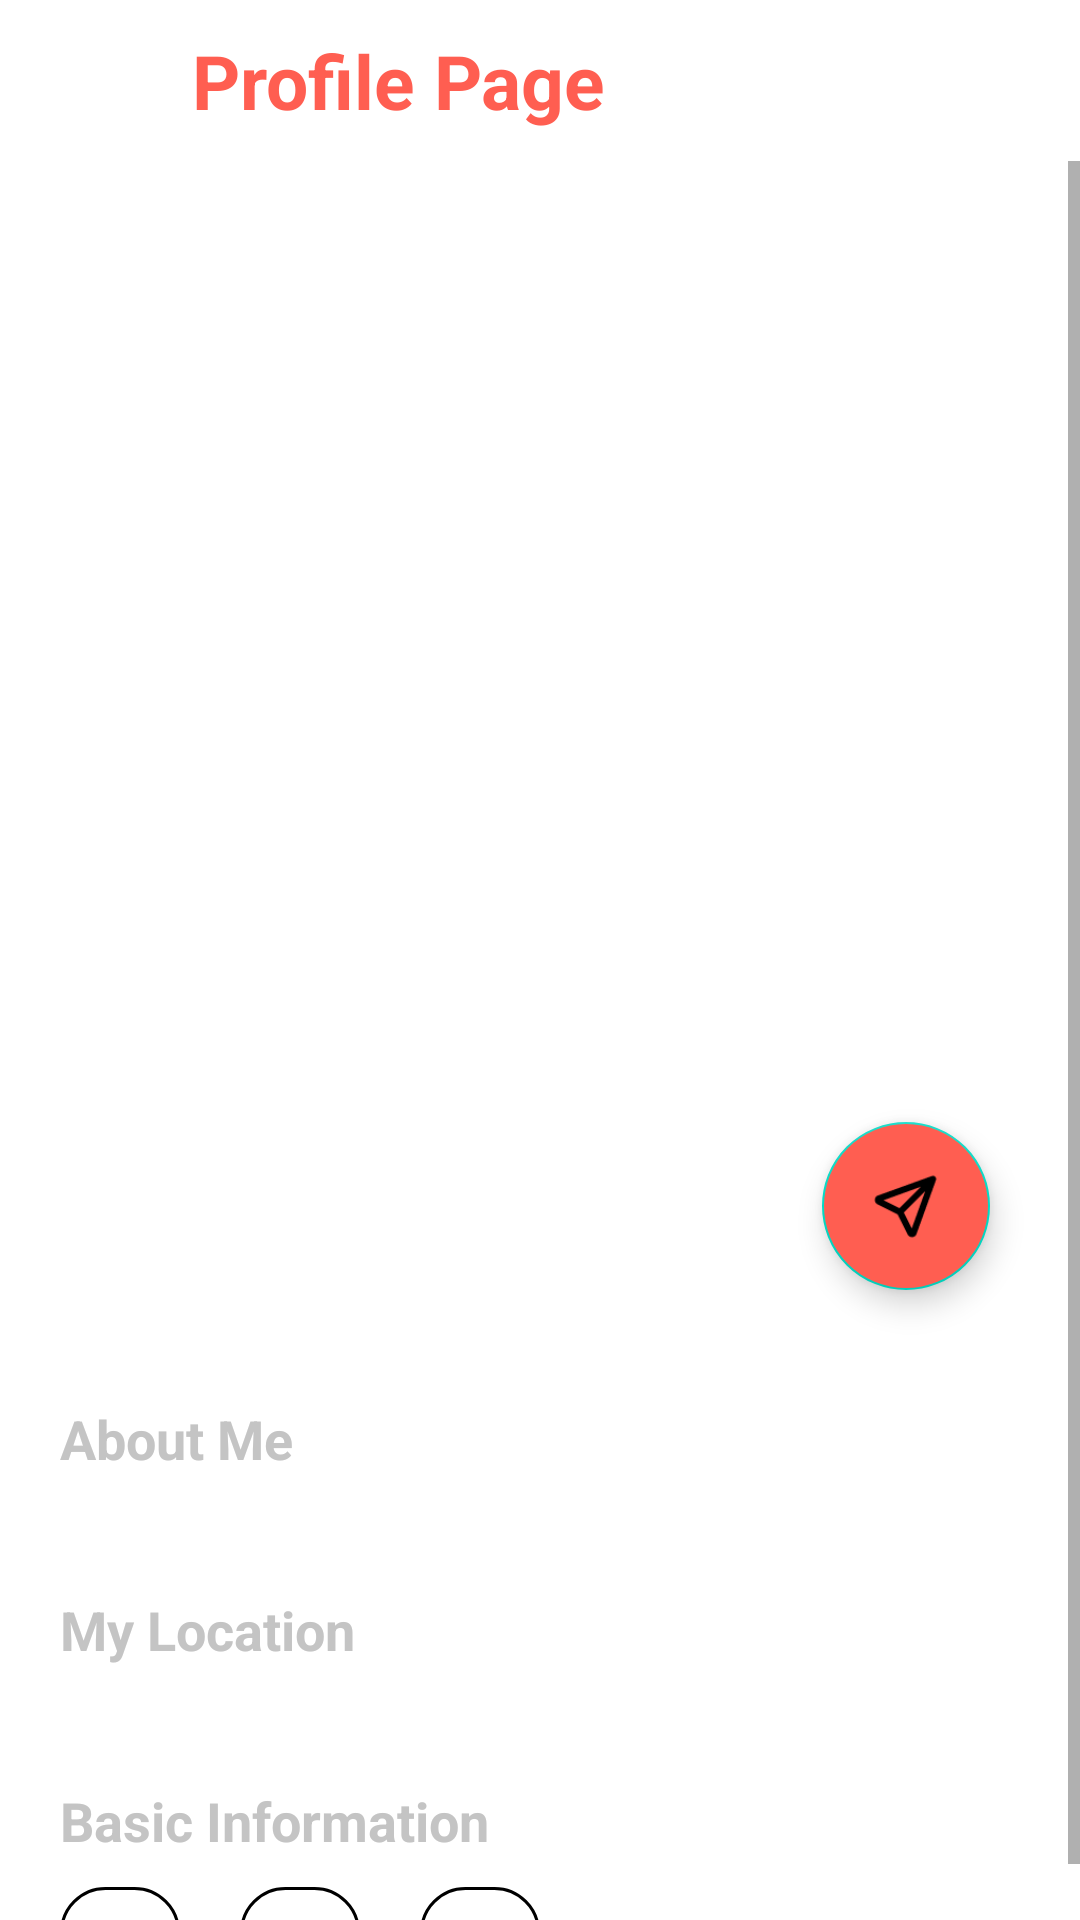

Screen size 1080x1920. Icon name, then its box in pixels as (x1, y1, x2, y2):
message: (822, 1122, 990, 1290)
